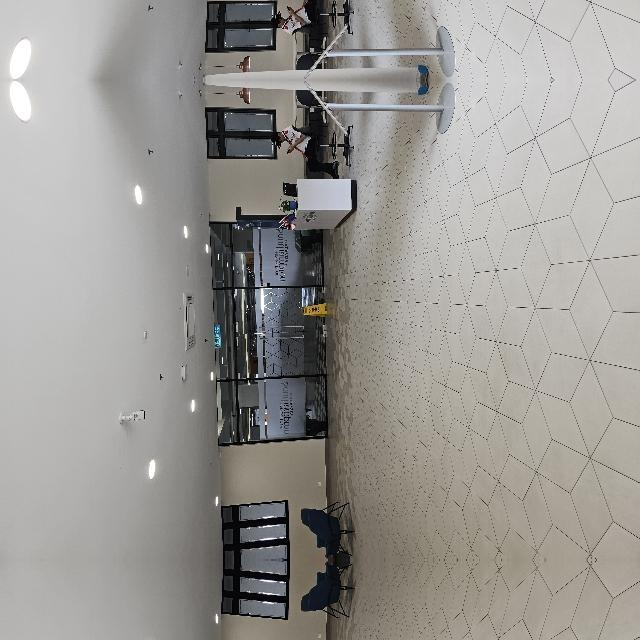obstacle: (424, 392, 481, 538), (423, 582, 480, 640)
